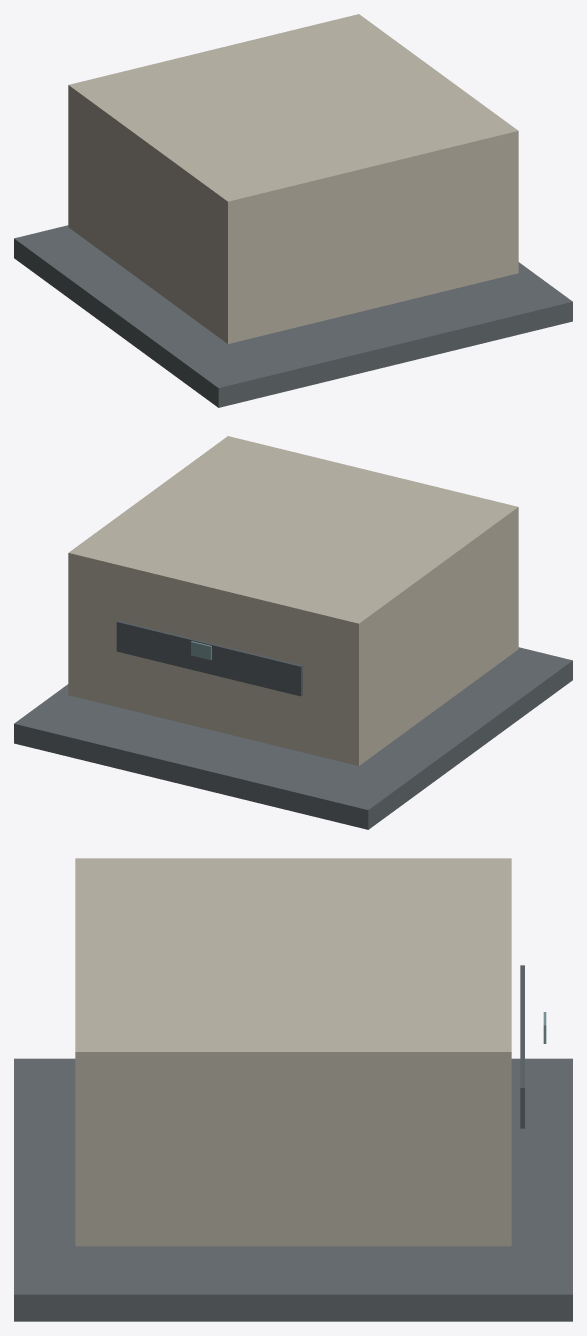
The model's file is iz3_military_barracks_01.glb.
The picture shows the model from 3 angles, top to bottom: view 1: azimuth 30°, elevation 25°; view 2: azimuth 150°, elevation 25°; view 3: azimuth 270°, elevation 25°; orthographic projection. The views are drawn at different scales.
Parts seen in each view (by area): view 1: cabinet, base; view 2: cabinet, base, panel; view 3: cabinet, base, panel.
Part boxes in pixels (box(x1,y1,x2,y2)): cabinet: box(68, 14, 518, 343); base: box(14, 225, 572, 407); cabinet: box(68, 436, 518, 765); base: box(14, 647, 572, 829); panel: box(116, 620, 302, 696); cabinet: box(75, 858, 511, 1246); base: box(14, 1058, 572, 1321); panel: box(520, 965, 524, 1128).
Size of the model in its own units: 6 by 2.94 by 6.
